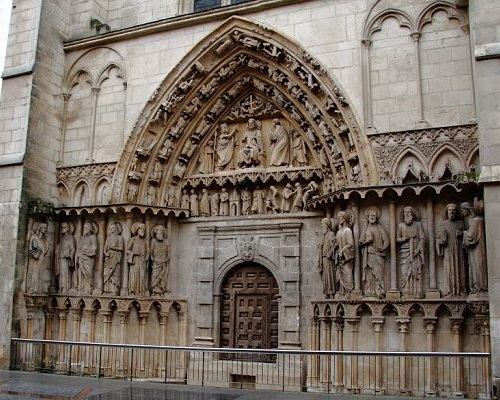arco-apuntado: (114, 13, 371, 166)
arco-medio-punto: (215, 255, 284, 300)
